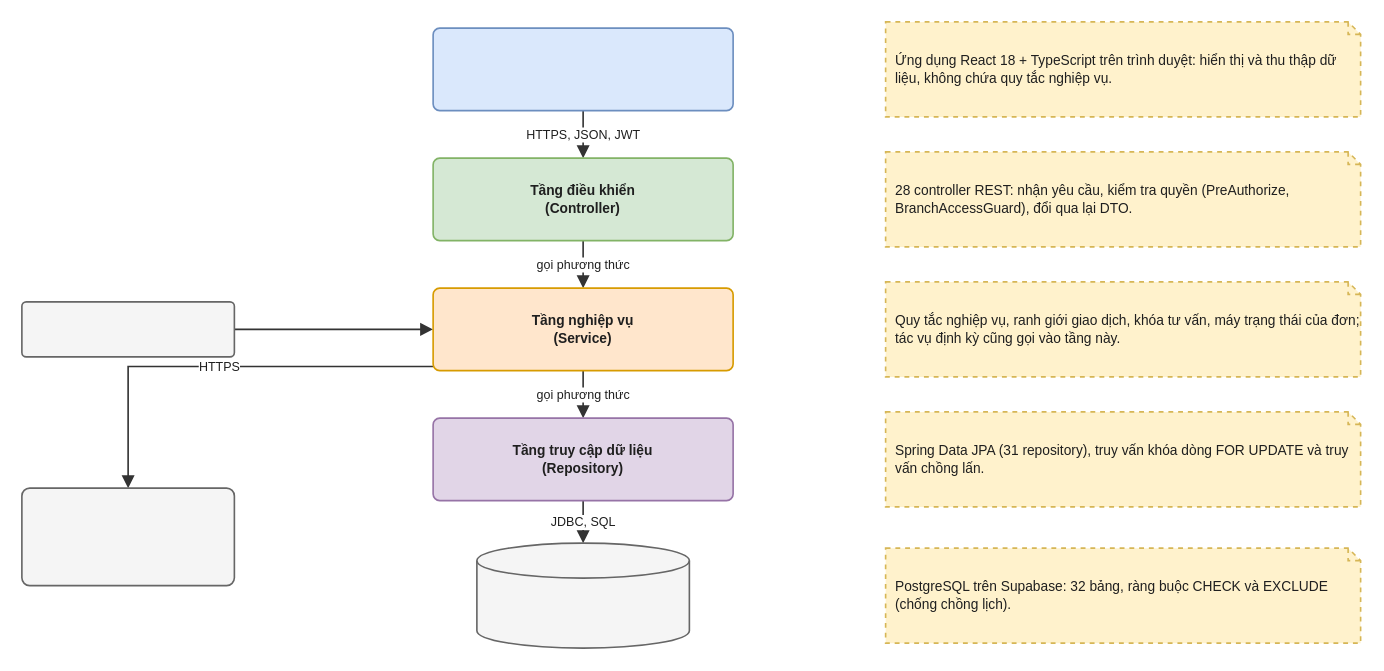
The diagram is 1384 pixels wide and 671 high, and some of its shapes have lost their labels. The shapes that lost their labels are listed below. From the top down, each one's centre as x and y in pixels, then its label:
(x=582, y=69): Tầng trình bày (Presentation)
(x=127, y=328): Tác vụ định kỳ (Scheduler)
(x=127, y=536): Dịch vụ bên thứ ba PayOS, MoMo, Gemini, Supabase Auth
(x=583, y=595): Cơ sở dữ liệu PostgreSQL
